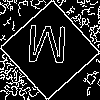M: (25, 25, 69, 73)
